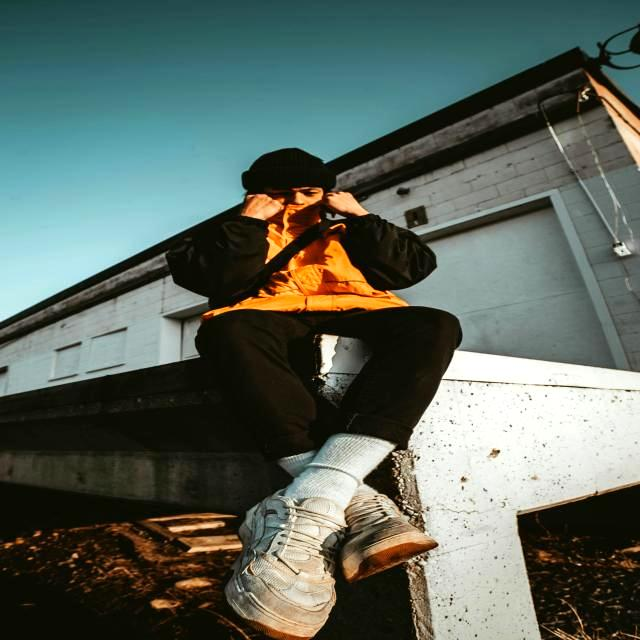no_hard_hat: (241, 148, 336, 194)
person: (166, 148, 462, 640)
